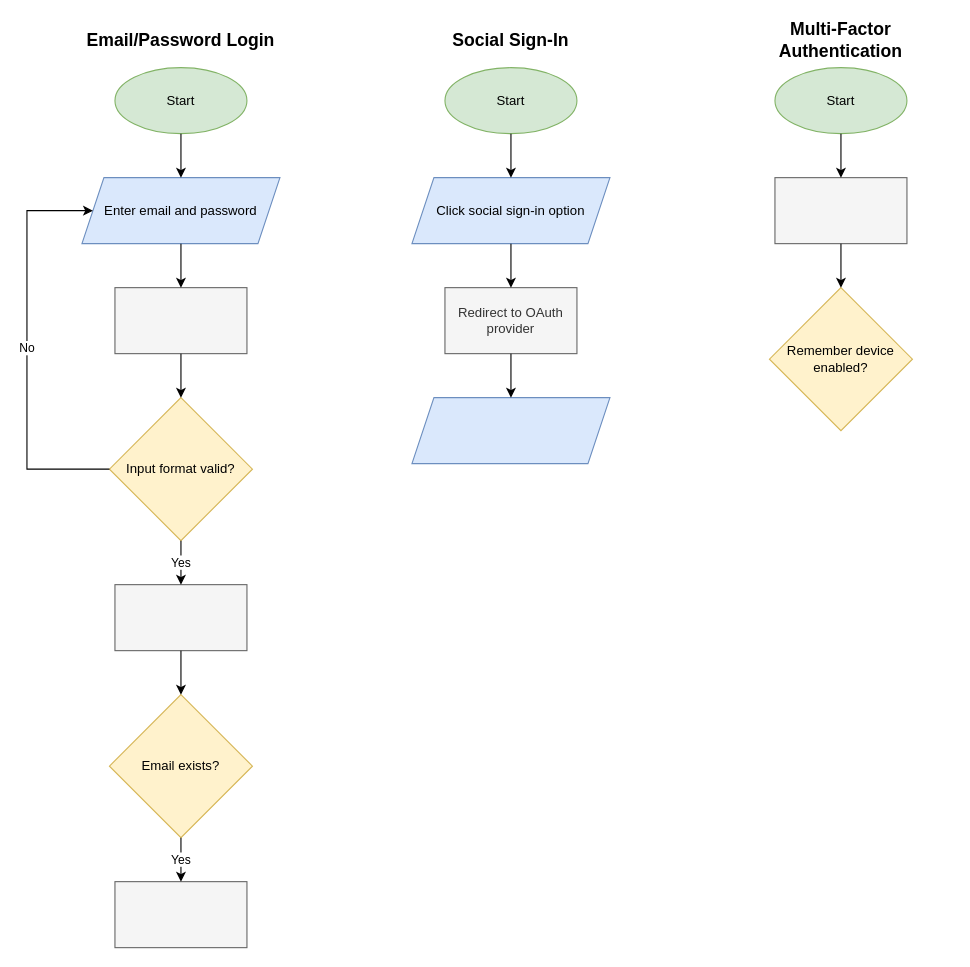
This 970x967 diagram has some shape labels left out. The centre of each missing label's shape, as x and y in pixels:
Authenticate with provider: point (510, 430)
Check if email exists: point (180, 617)
Generate MFA challenge: point (840, 210)
Validate input format: point (180, 320)
Verify password hash: point (180, 914)
